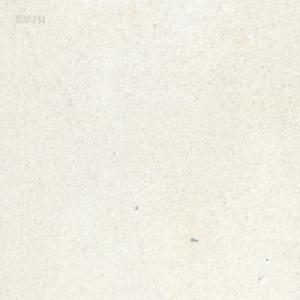Nail: (190, 236, 198, 242)
